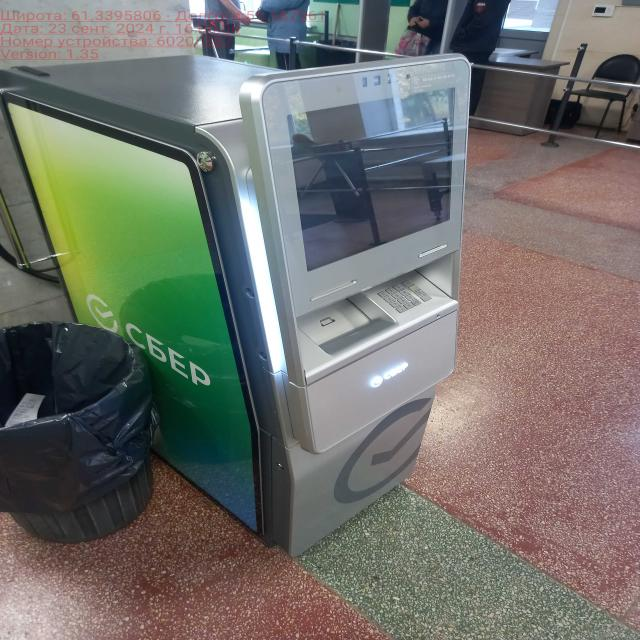bank: (0, 51, 467, 552)
